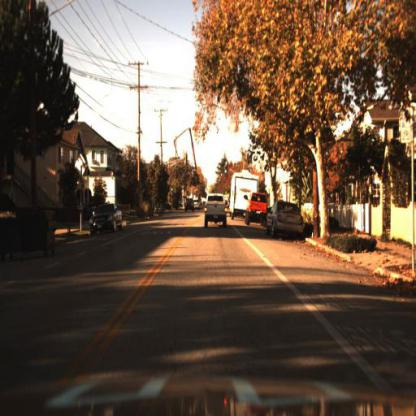car: (266, 199, 309, 243), (88, 203, 126, 239), (200, 194, 229, 235), (246, 190, 272, 230), (183, 194, 198, 215)
truck: (230, 169, 262, 222), (229, 170, 262, 221)
